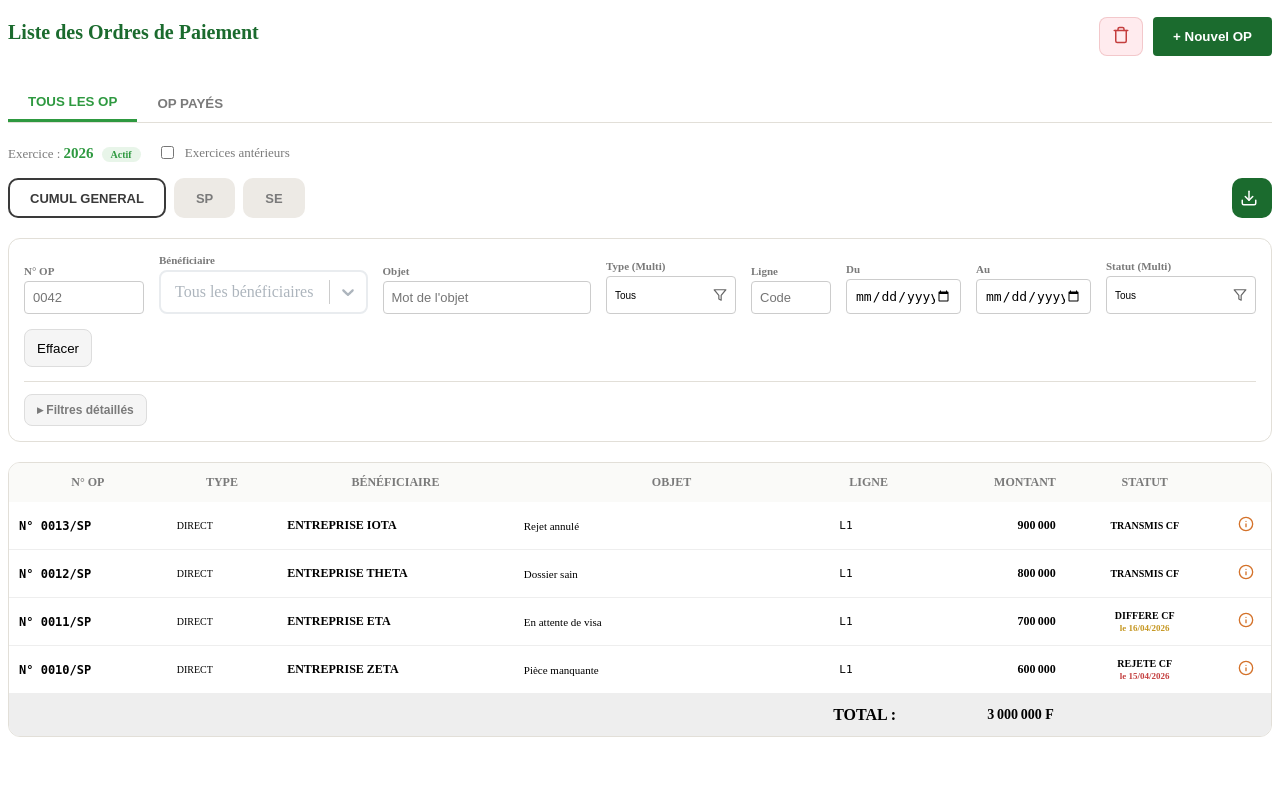
Scenario: Liste OP — la date du rejet et du différé › le suivi détaillé date le motif de rejet
Click the button titled "Suivi détaillé" at (1246, 670), box x1=1234 y1=656 x2=1258 y2=683
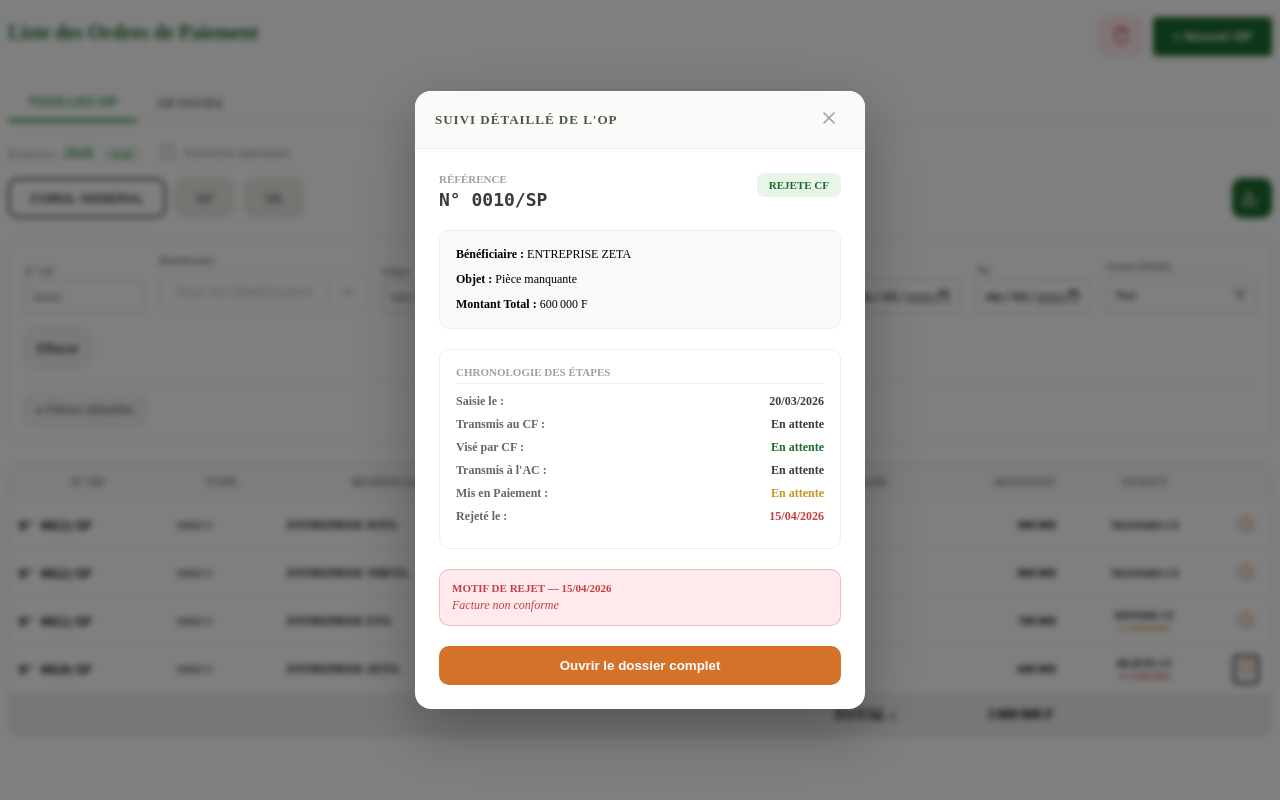
Result: the text "MOTIF DE REJET — 15/04/2026" is shown at x1=452 y1=582 x2=612 y2=594
Result: the text "Facture non conforme" is shown at x1=452 y1=598 x2=559 y2=612
